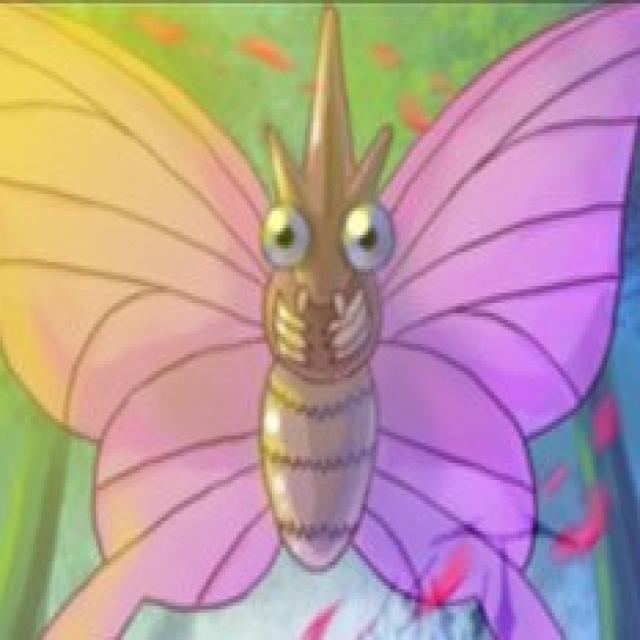Venomoth: (86, 76, 536, 612)
